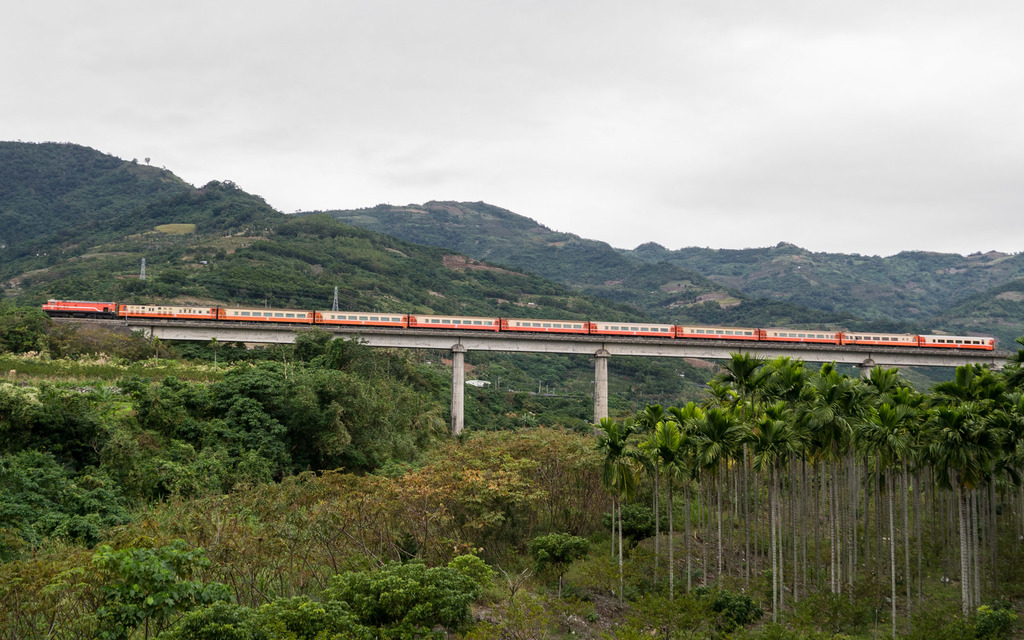train: (37, 295, 997, 349)
